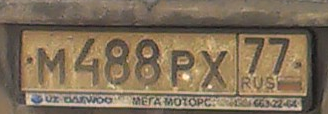character: (103, 35, 134, 90), (133, 36, 162, 92), (74, 37, 102, 90), (197, 50, 232, 92), (35, 46, 69, 86), (169, 50, 196, 90), (240, 36, 264, 75), (268, 37, 291, 77)
